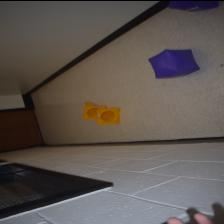cone: (93, 106, 119, 124), (83, 101, 107, 119)
cube: (146, 48, 200, 78), (167, 0, 219, 12)
